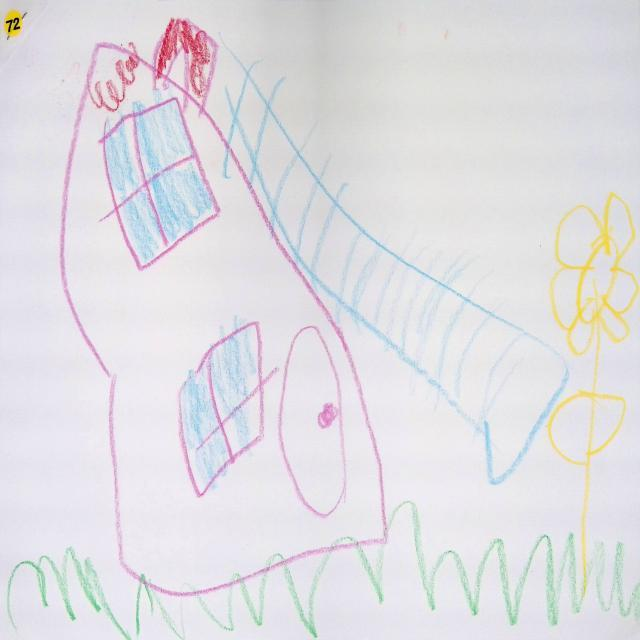chimney: (155, 18, 217, 104)
door: (279, 326, 347, 518)
house: (62, 20, 387, 591)
roof: (70, 40, 152, 113)
wall: (61, 76, 386, 595)
window: (103, 98, 219, 268), (181, 324, 264, 497)
